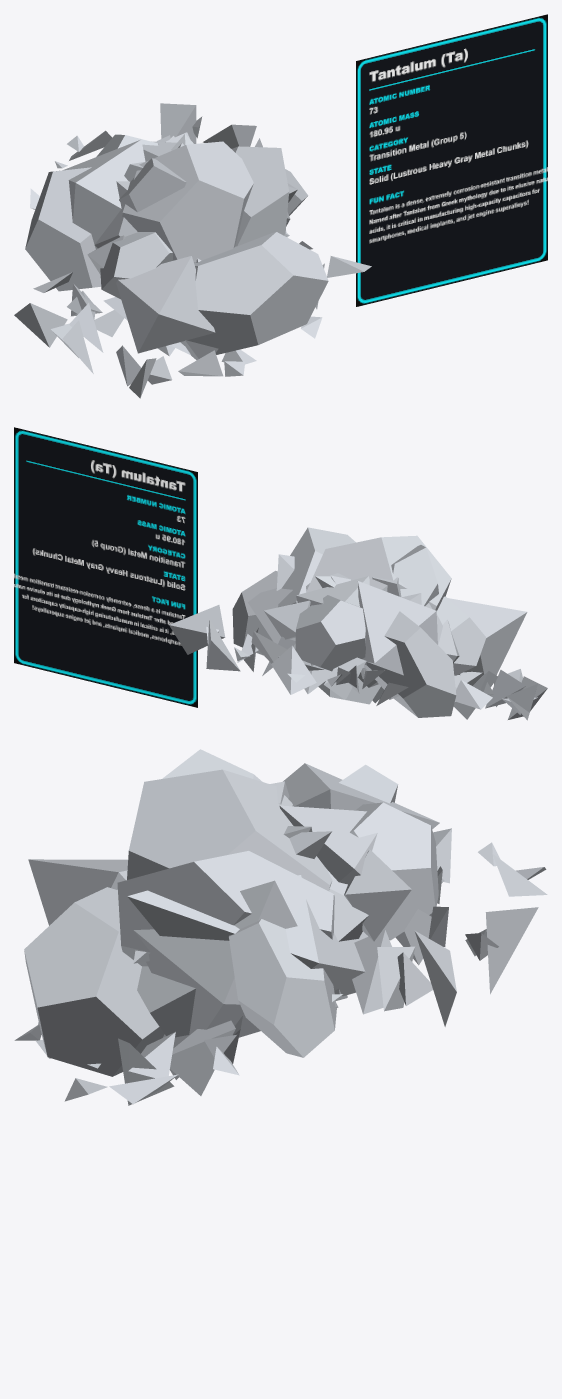
File: tantalum.glb
3 renders of one model, top to bottom at view 1: azimuth 30°, elevation 25°; view 2: azimuth 150°, elevation 25°; view 3: azimuth 270°, elevation 25°, orthographic. The views are drawn at different scales.
Parts seen in each view (by area): view 1: Mesh_86, Mesh_33, Mesh_19, Mesh_29, Mesh_0, Mesh_17, Mesh_15, Mesh_12, Mesh_11, Mesh_43, Mesh_79, Mesh_28 (+9 smaller); view 2: Mesh_86, Mesh_0, Mesh_26, Mesh_19, Mesh_17, Mesh_15, Mesh_29, Mesh_12, Mesh_11, Mesh_20, Mesh_84, Mesh_2 (+13 smaller); view 3: Mesh_33, Mesh_19, Mesh_20, Mesh_15, Mesh_27, Mesh_2, Mesh_26, Mesh_29, Mesh_23, Mesh_25, Mesh_17, Mesh_16 (+15 smaller).
Part boxes in pixels (x1,y1,x2,y2): Mesh_86: (356,14,547,306); Mesh_33: (187,232,328,354); Mesh_19: (122,141,253,262); Mesh_29: (116,256,215,353); Mesh_0: (25,167,101,291); Mesh_17: (63,139,145,249); Mesh_15: (232,146,289,246); Mesh_12: (100,232,172,299); Mesh_11: (119,158,186,212); Mesh_43: (160,103,196,143); Mesh_79: (14,303,67,347); Mesh_28: (94,181,137,248); Mesh_86: (14,427,197,707); Mesh_0: (364,611,456,717); Mesh_26: (295,595,365,671); Mesh_19: (306,535,451,670); Mesh_17: (358,581,437,675); Mesh_15: (278,527,380,704); Mesh_29: (448,598,527,685); Mesh_12: (436,596,486,675); Mesh_11: (361,545,438,679); Mesh_20: (232,570,277,655); Mesh_84: (169,605,225,654); Mesh_2: (248,583,331,693); Mesh_33: (24,887,164,1076); Mesh_19: (127,769,332,891); Mesh_20: (229,919,336,1057); Mesh_15: (117,851,347,1000); Mesh_27: (134,880,338,1038); Mesh_2: (127,875,368,996); Mesh_26: (350,802,438,940); Mesh_29: (28,859,127,925); Mesh_23: (279,805,377,884); Mesh_25: (344,849,411,941); Mesh_17: (283,763,439,829); Mesh_16: (137,966,195,1037).
Bounding box in the file's own units: 3.02 × 1.32 × 1.68.
2 materials, 1 textured.
